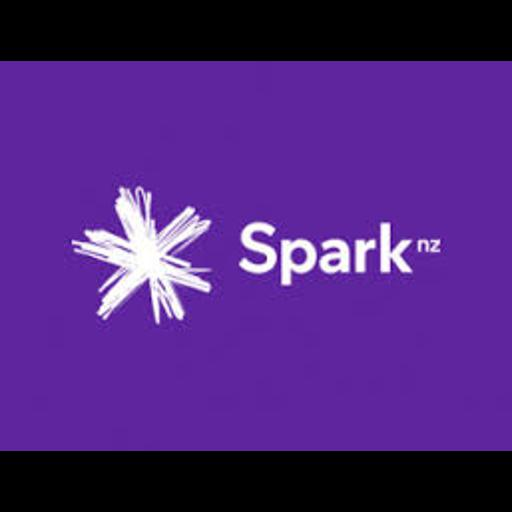Spark New Zealand: (0, 61, 512, 451)
